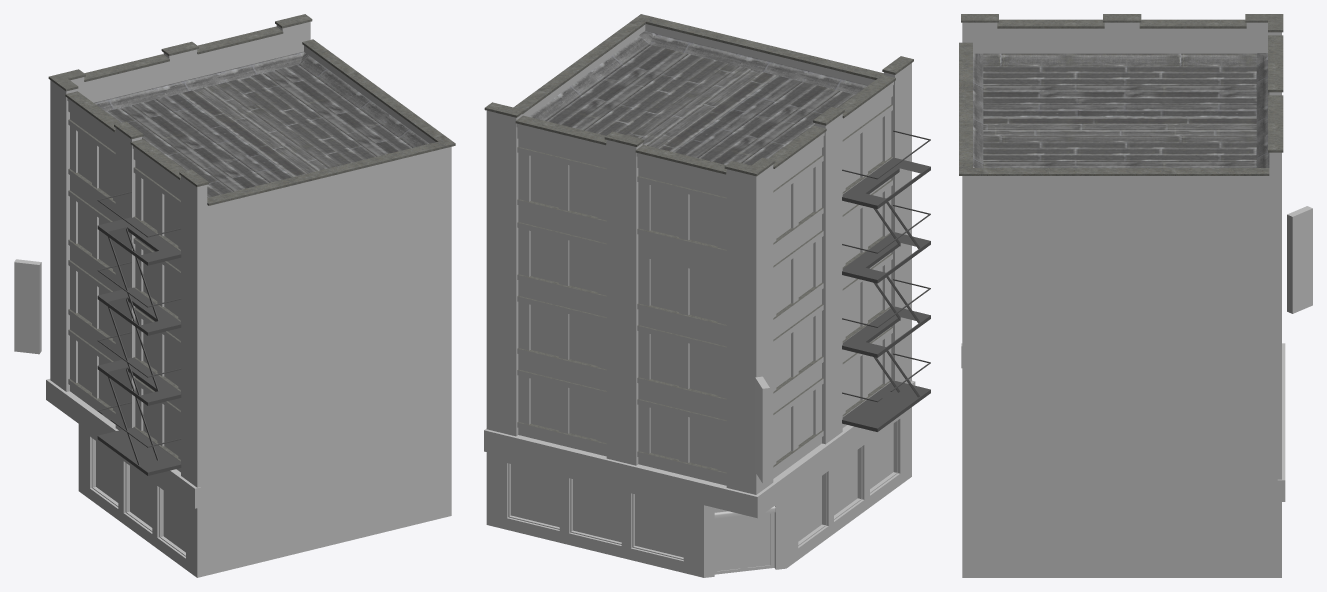
Rendered from mcp_building_08_LOD_1.FBX.
3 views of the same model, side by side, from view 1: azimuth 30°, elevation 25°; view 2: azimuth 150°, elevation 25°; view 3: azimuth 270°, elevation 25° (orthographic). The views are drawn at different scales.
Visible parts, largest first — view 1: mcp_building_08_concrete_01, mcp_building_08_brick, mcp_building_08_roof, mcp_building_08, mcp_building_08_illumitation, mcp_building_08_concrete_02, mcp_building_08_props_01; view 2: mcp_building_08_brick, mcp_building_08, mcp_building_08_illumitation, mcp_building_08_roof, mcp_building_08_concrete_02, mcp_building_08_props_01, mcp_building_08_concrete_01; view 3: mcp_building_08_concrete_01, mcp_building_08_roof, mcp_building_08_concrete_02, mcp_building_08_brick, mcp_building_08_illumitation, mcp_building_08.
Part boxes in pixels (<box>): mcp_building_08_concrete_01: <box>84,39,451,577</box>; mcp_building_08_brick: <box>50,21,310,487</box>; mcp_building_08_roof: <box>94,51,429,197</box>; mcp_building_08: <box>46,132,200,577</box>; mcp_building_08_illumitation: <box>14,180,185,552</box>; mcp_building_08_concrete_02: <box>48,14,455,205</box>; mcp_building_08_props_01: <box>97,192,181,475</box>; mcp_building_08_brick: <box>486,63,911,494</box>; mcp_building_08: <box>484,156,915,577</box>; mcp_building_08_illumitation: <box>511,118,893,571</box>; mcp_building_08_roof: <box>529,30,867,165</box>; mcp_building_08_concrete_02: <box>484,14,913,176</box>; mcp_building_08_props_01: <box>842,130,930,431</box>; mcp_building_08_concrete_01: <box>522,24,875,116</box>; mcp_building_08_concrete_01: <box>962,34,1281,577</box>; mcp_building_08_roof: <box>973,53,1269,167</box>; mcp_building_08_concrete_02: <box>959,14,1283,175</box>; mcp_building_08_brick: <box>962,22,1281,480</box>; mcp_building_08_illumitation: <box>1287,206,1312,313</box>; mcp_building_08: <box>961,343,1285,501</box>.
Bounding box in the file's own units: 1544 × 1997 × 1496.
